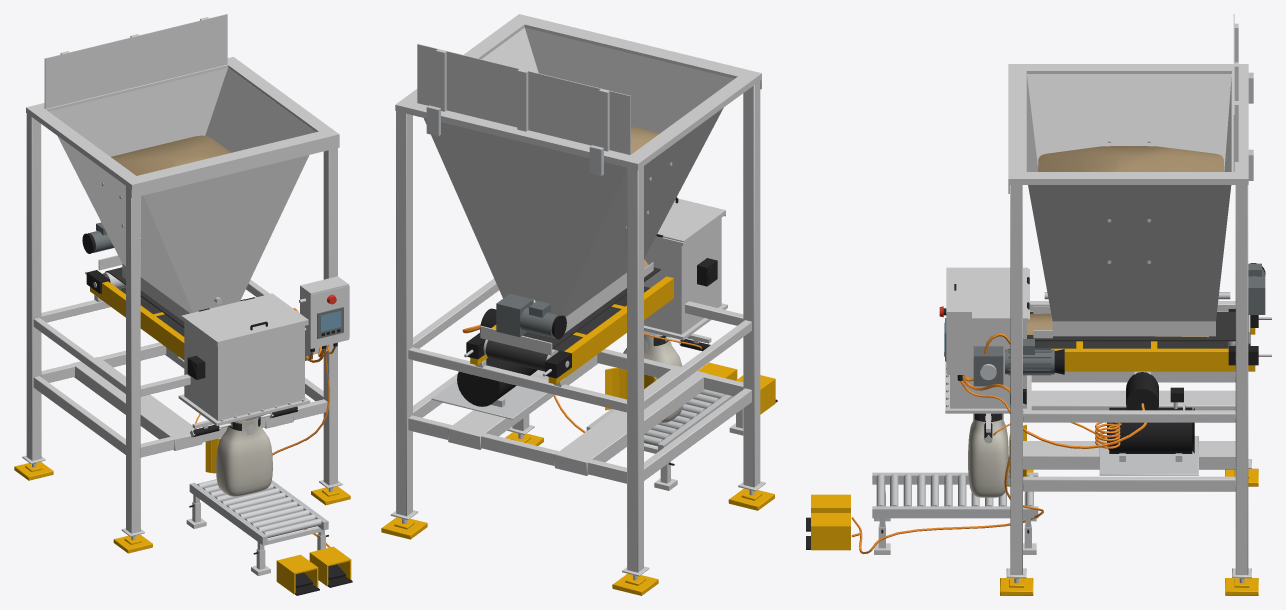
File: bagging-machine.glb
3 renders of one model, left to right at view 1: azimuth 30°, elevation 25°; view 2: azimuth 150°, elevation 25°; view 3: azimuth 270°, elevation 25°, orthographic. The views are drawn at different scales.
Parts seen in each view (by area): view 1: hopper_shell, frame, hopper_trim, head_box, loadout_conveyor, head_lid_mesh, bag_mesh, control_box, hopper_product, belt_frame, belt, agitator_drive; view 2: frame, hopper_shell, hopper_trim, head_box, loadout_conveyor, belt_frame, belt, agitator_drive, compressor, head_lid_mesh, bag_mesh; view 3: hopper_shell, frame, hopper_trim, loadout_conveyor, compressor, belt_frame, hopper_product, head_box, head_lid_mesh, belt, belt_drive, bag_mesh (+2 smaller).
Boxes of the visible parts, x1,y1,x2,y2 form: hopper_shell: [49, 68, 315, 321]; frame: [14, 57, 350, 553]; hopper_trim: [26, 14, 339, 240]; head_box: [178, 316, 310, 435]; loadout_conveyor: [186, 342, 352, 595]; head_lid_mesh: [181, 293, 308, 346]; bag_mesh: [216, 418, 272, 496]; control_box: [299, 276, 349, 348]; hopper_product: [111, 135, 231, 175]; belt_frame: [85, 255, 184, 359]; belt: [105, 267, 184, 336]; agitator_drive: [82, 222, 114, 253]; frame: [381, 15, 774, 595]; hopper_shell: [423, 27, 734, 333]; hopper_trim: [395, 14, 761, 229]; head_box: [644, 212, 727, 350]; loadout_conveyor: [553, 362, 777, 490]; belt_frame: [464, 262, 673, 384]; belt: [486, 267, 660, 371]; agitator_drive: [496, 293, 566, 339]; compressor: [457, 308, 537, 407]; head_lid_mesh: [656, 197, 725, 242]; bag_mesh: [623, 334, 682, 422]; hopper_shell: [1026, 74, 1231, 336]; frame: [1000, 64, 1258, 595]; hopper_trim: [1008, 14, 1253, 263]; loadout_conveyor: [806, 375, 1043, 554]; compressor: [962, 371, 1194, 461]; belt_frame: [1030, 306, 1271, 371]; hopper_product: [1038, 146, 1223, 171]; head_box: [945, 269, 1031, 435]; head_lid_mesh: [946, 267, 1029, 319]; belt: [1027, 312, 1250, 348]; belt_drive: [963, 333, 1064, 386]; bag_mesh: [968, 413, 1008, 497].
Size of the model in its own units: 1.76 by 3.14 by 2.81.
